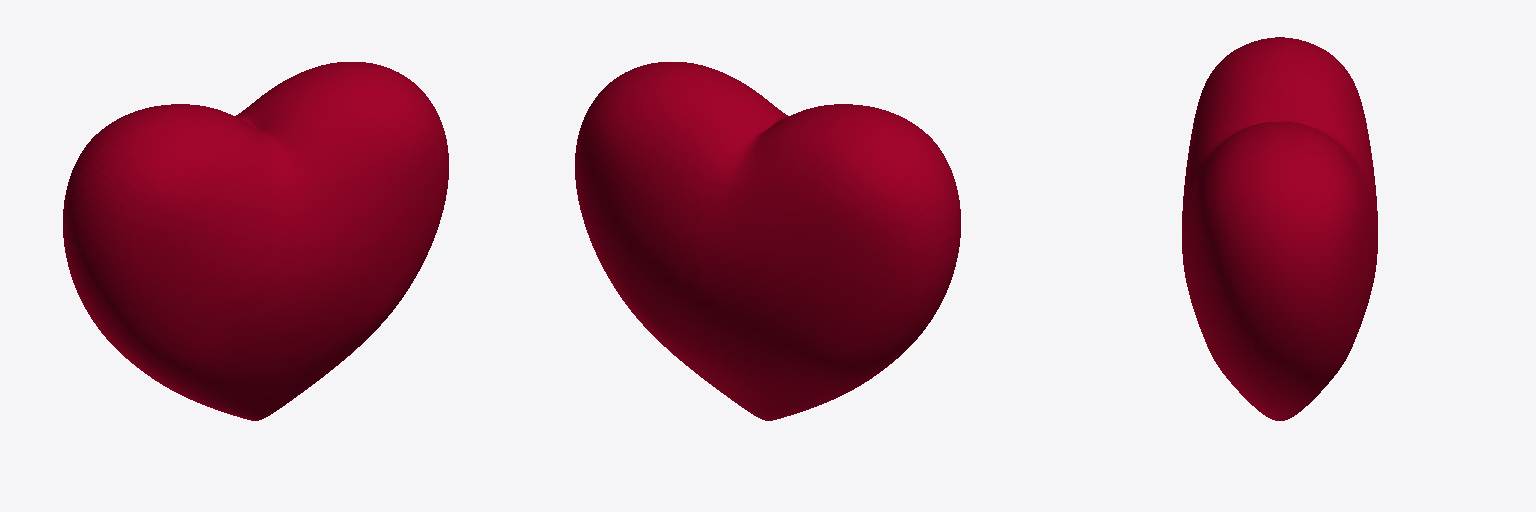
Rendered from love_heart_red.obj.
3 renders of one model, left to right at view 1: azimuth 30°, elevation 25°; view 2: azimuth 150°, elevation 25°; view 3: azimuth 270°, elevation 25°, orthographic.
Visible parts, largest first — view 1: Vert; view 2: Vert; view 3: Vert.
Part boxes in pixels (bbox=[...]): Vert: bbox=[63, 62, 448, 420]; Vert: bbox=[575, 62, 960, 420]; Vert: bbox=[1182, 37, 1377, 420].
Size of the model in its own units: 0.6772 by 0.5789 by 0.314.